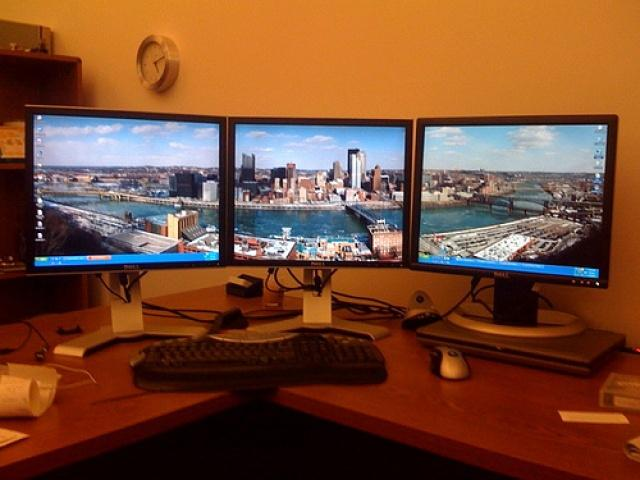AIO PC-Monitor-TV: (410, 113, 619, 288), (22, 103, 224, 275), (226, 114, 412, 270)
